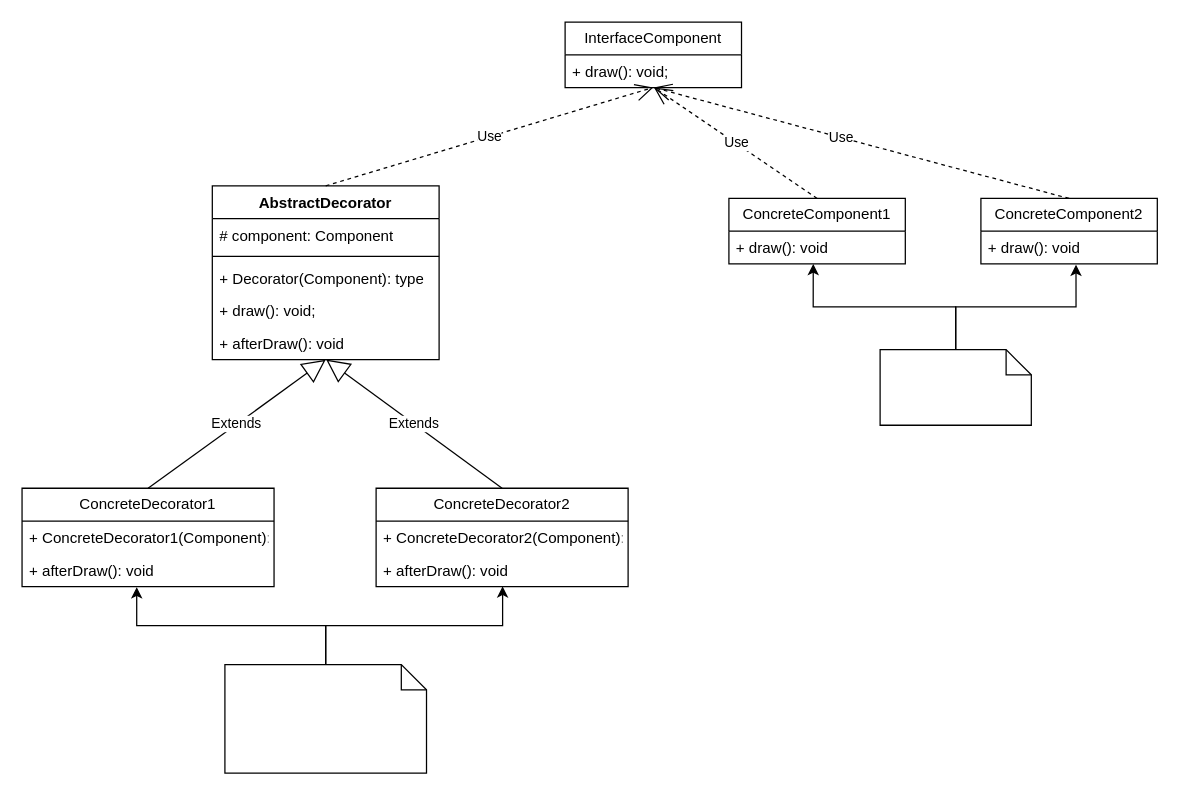
The diagram is 1179 pixels wide and 795 high, and some of its shapes have lost their labels. The shapes that lost their labels are listed below. From the top down, each one's centre as x and y in pixels, then its label:
At (955,386): "super(Component);".
At (325,718): "return ConcreteDecorator?();".
